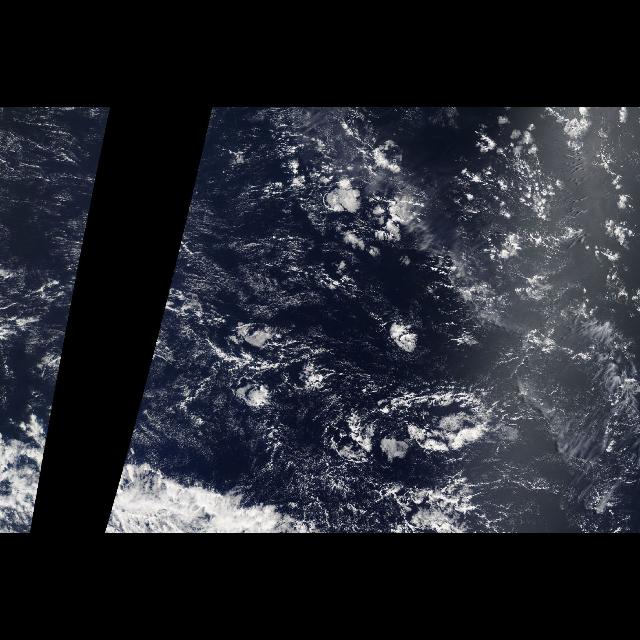Sugar: (198, 213, 302, 335), (8, 130, 86, 260)
